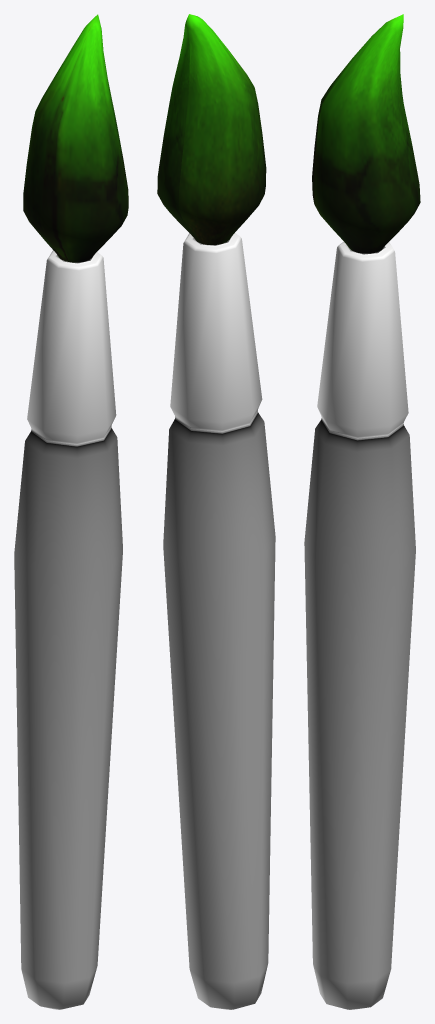
The model's file is Art Supplies - Brushes.002 (1).fbx.
3 views of the same model, side by side, from view 1: azimuth 30°, elevation 25°; view 2: azimuth 210°, elevation 25°; view 3: azimuth 330°, elevation 25° (orthographic). The views are drawn at different scales.
Visible parts, largest first — view 1: Art_Supplies___Brushes_002__1_, Art_Supplies___Brushes_002__1_.001; view 2: Art_Supplies___Brushes_002__1_, Art_Supplies___Brushes_002__1_.001; view 3: Art_Supplies___Brushes_002__1_, Art_Supplies___Brushes_002__1_.001.
Boxes of the visible parts, bbox=[...] form: Art_Supplies___Brushes_002__1_: bbox=[14, 250, 122, 1009]; Art_Supplies___Brushes_002__1_.001: bbox=[23, 14, 128, 262]; Art_Supplies___Brushes_002__1_: bbox=[163, 233, 275, 1009]; Art_Supplies___Brushes_002__1_.001: bbox=[157, 14, 266, 244]; Art_Supplies___Brushes_002__1_: bbox=[304, 241, 415, 1009]; Art_Supplies___Brushes_002__1_.001: bbox=[312, 14, 420, 253].
Bounding box in the file's own units: 1.5 × 14.48 × 1.43.
